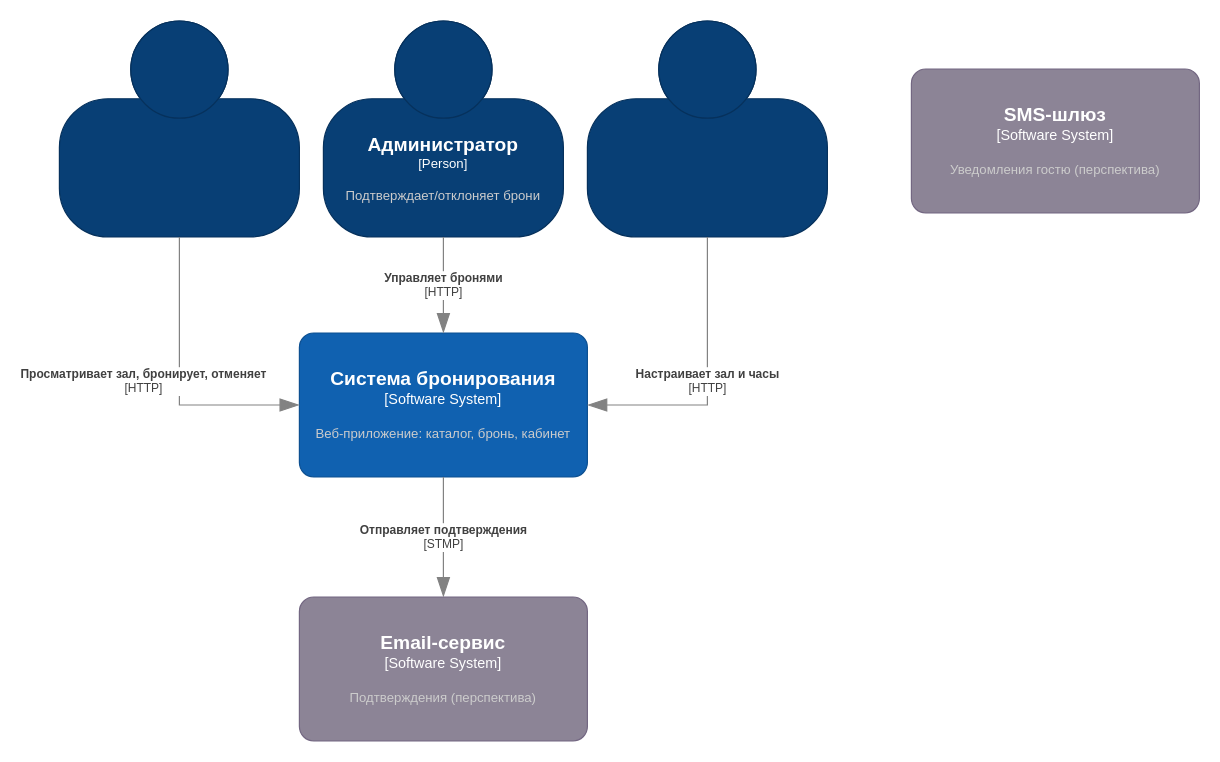
Some shapes in this 1220 by 762 pixel diagram are drawn without their labels. The shapes that lost their labels are listed below. From the top down, each one's box as (x1, y1, x2, y2) in pixels, then its label:
(58, 20, 299, 237): Гость [Person] Бронирует столик онлайн
(586, 20, 827, 237): Менеджер [Person] Настраивает зал и часы работы
